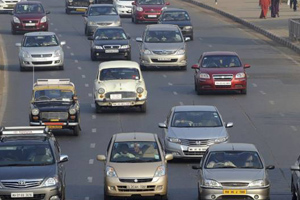car: (102, 132, 172, 200), (194, 144, 274, 200), (5, 130, 68, 200), (162, 105, 235, 160), (28, 78, 83, 138), (94, 61, 148, 110), (138, 23, 191, 70), (192, 52, 252, 93), (19, 31, 66, 71), (85, 3, 123, 37), (11, 2, 54, 32), (158, 8, 195, 41), (92, 27, 129, 59)
